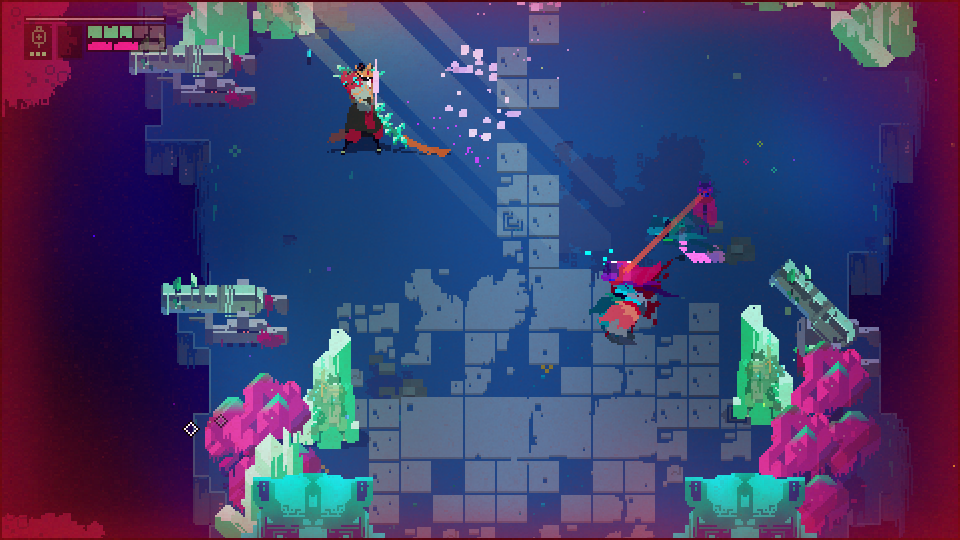hanged_man: (333, 62, 409, 150)
player: (599, 296, 638, 337)
